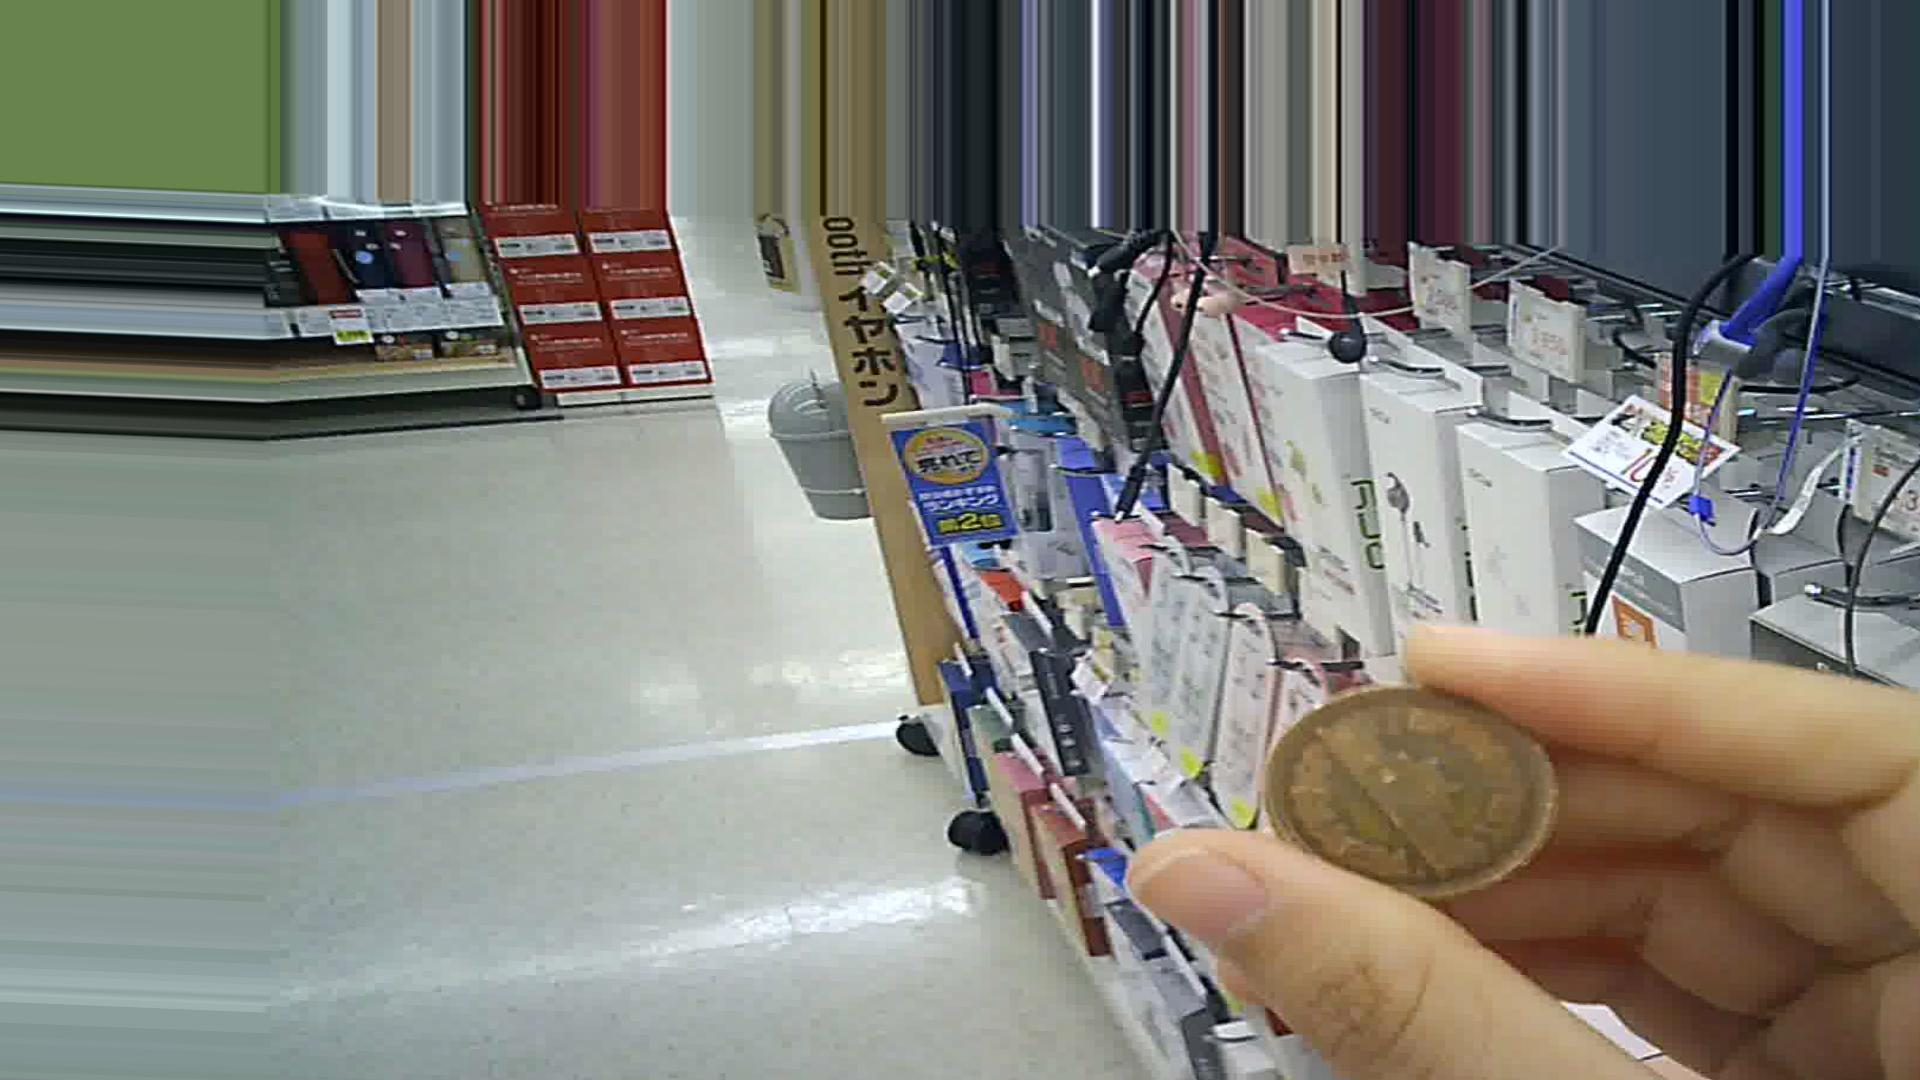10 Yen: (1250, 666, 1560, 911)
